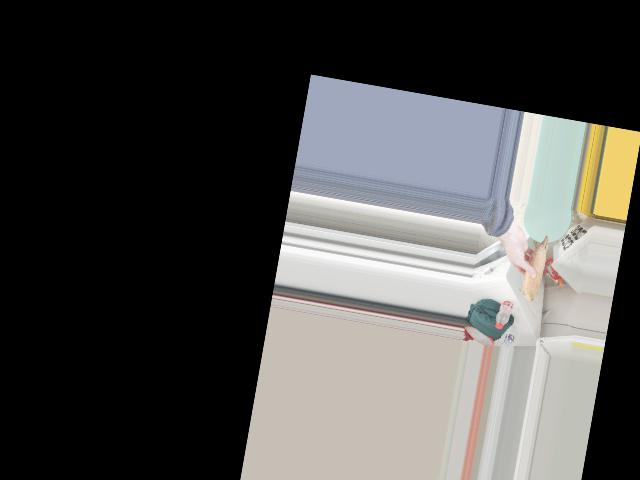sweet_potato: (516, 233, 554, 306)
